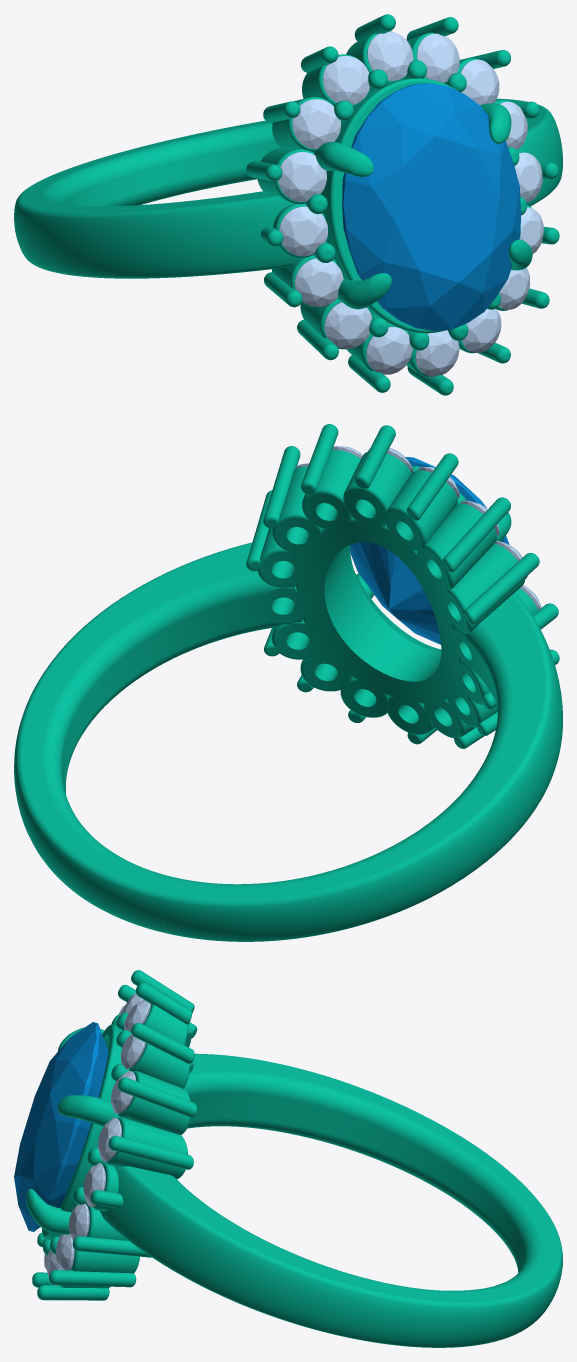
3 views of the same model, one above another, from view 1: azimuth 30°, elevation 25°; view 2: azimuth 150°, elevation 25°; view 3: azimuth 270°, elevation 25° (orthographic). The views are drawn at different scales.
Parts seen in each view (by area): view 1: VR111(base).3dm, Diamond_Oval, Diamond_Round (×16), Head Prong (×13), Bezel (×7); view 2: VR111(base).3dm, Bezel (×15), Head Prong (×7), Diamond_Oval; view 3: VR111(base).3dm, Head Prong (×11), Bezel (×7), Diamond_Oval, Diamond_Round (×7).
Part boxes in pixels (left/top/right/bottom): VR111(base).3dm: left=14, top=60, right=562, bottom=350; Diamond_Oval: left=342, top=83, right=520, bottom=330; Diamond_Round (×16): left=278, top=31, right=543, bottom=376; Head Prong (×13): left=246, top=14, right=532, bottom=395; Bezel (×7): left=257, top=31, right=457, bottom=349; VR111(base).3dm: left=14, top=466, right=562, bottom=941; Bezel (×15): left=257, top=449, right=525, bottom=738; Head Prong (×7): left=246, top=424, right=539, bottom=624; Diamond_Oval: left=350, top=457, right=509, bottom=644; VR111(base).3dm: left=43, top=1012, right=562, bottom=1347; Head Prong (×11): left=26, top=970, right=197, bottom=1300; Bezel (×7): left=42, top=1004, right=190, bottom=1273; Diamond_Oval: left=14, top=1022, right=108, bottom=1231; Diamond_Round (×7): left=56, top=1000, right=150, bottom=1270.
Size of the model in its own units: 2.44 by 1.67 by 2.7.
